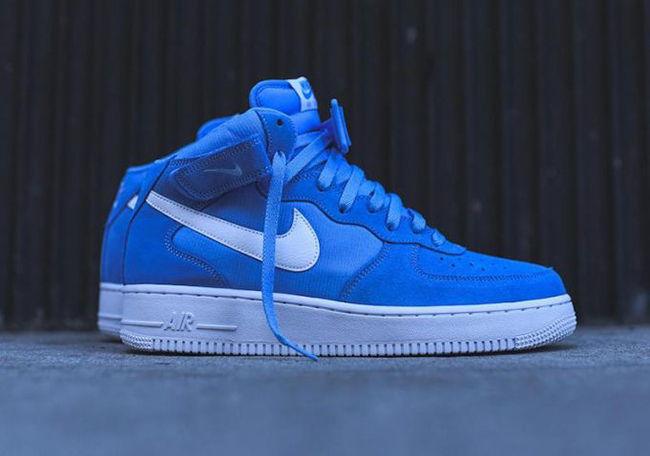Air Force One Blue: (120, 77, 589, 353)
